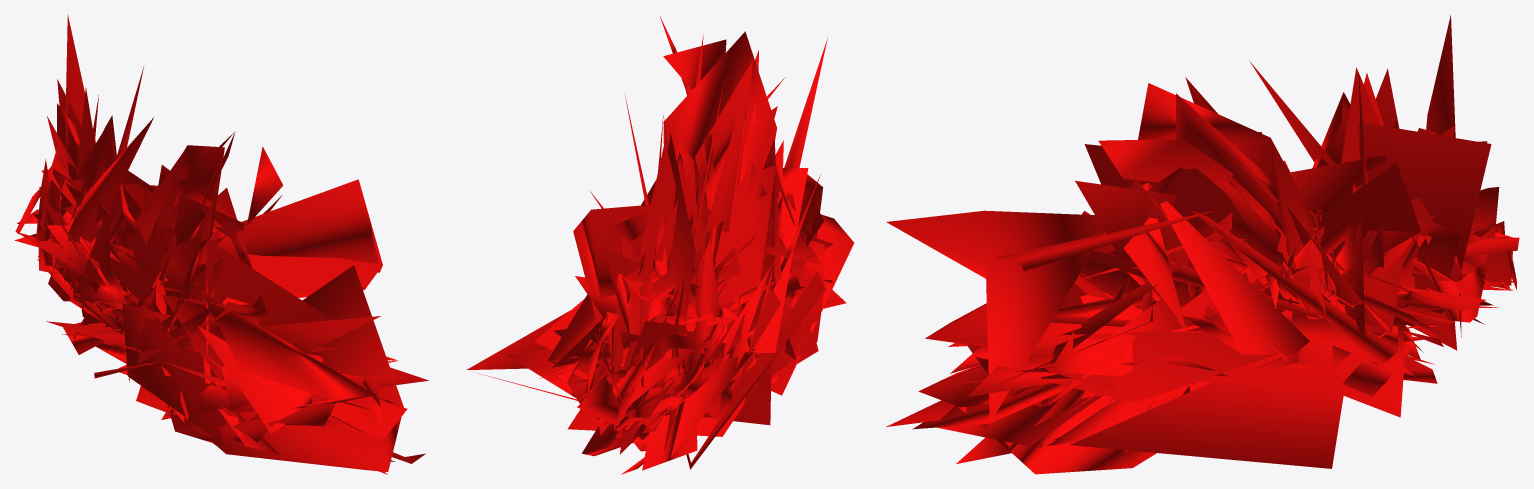
3 views of the same model, side by side, from view 1: azimuth 30°, elevation 25°; view 2: azimuth 150°, elevation 25°; view 3: azimuth 270°, elevation 25° (orthographic). The views are drawn at different scales.
Visible parts, largest first — view 1: Renderer Node; view 2: Renderer Node; view 3: Renderer Node.
Boxes of the visible parts, box(x1,y1,x2,y2) form: Renderer Node: box(14, 14, 428, 474); Renderer Node: box(467, 15, 853, 474); Renderer Node: box(886, 15, 1519, 474).
Bounding box in the file's own units: 0.3898 × 0.587 × 0.8511.
1 material, 1 textured.
